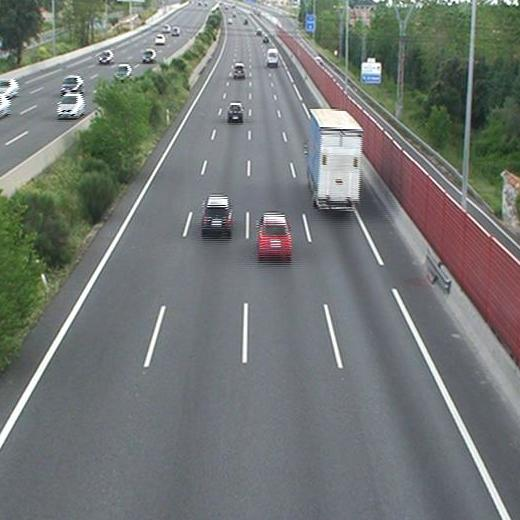car: (258, 214, 292, 257), (202, 196, 232, 230), (227, 103, 243, 121), (234, 63, 245, 78)
small-truck: (306, 108, 361, 208)
van: (267, 48, 278, 65)
